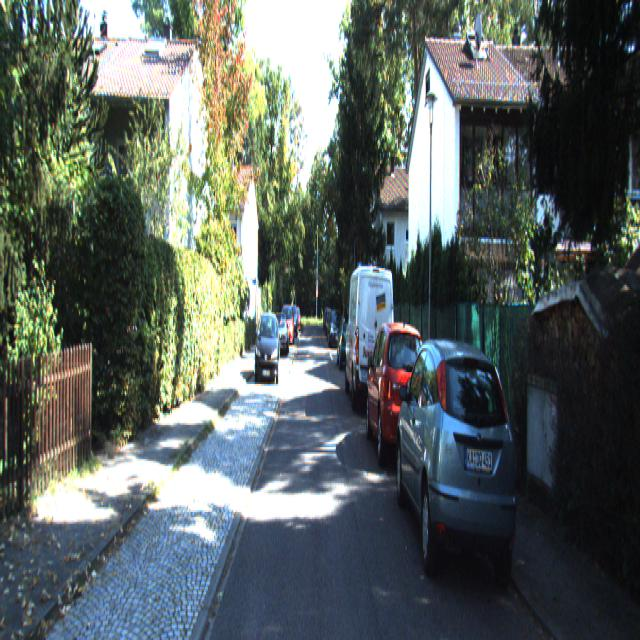Car: (394, 327, 522, 608), (364, 310, 434, 472), (343, 259, 395, 419), (256, 309, 280, 387), (338, 313, 360, 371), (271, 311, 289, 355)
